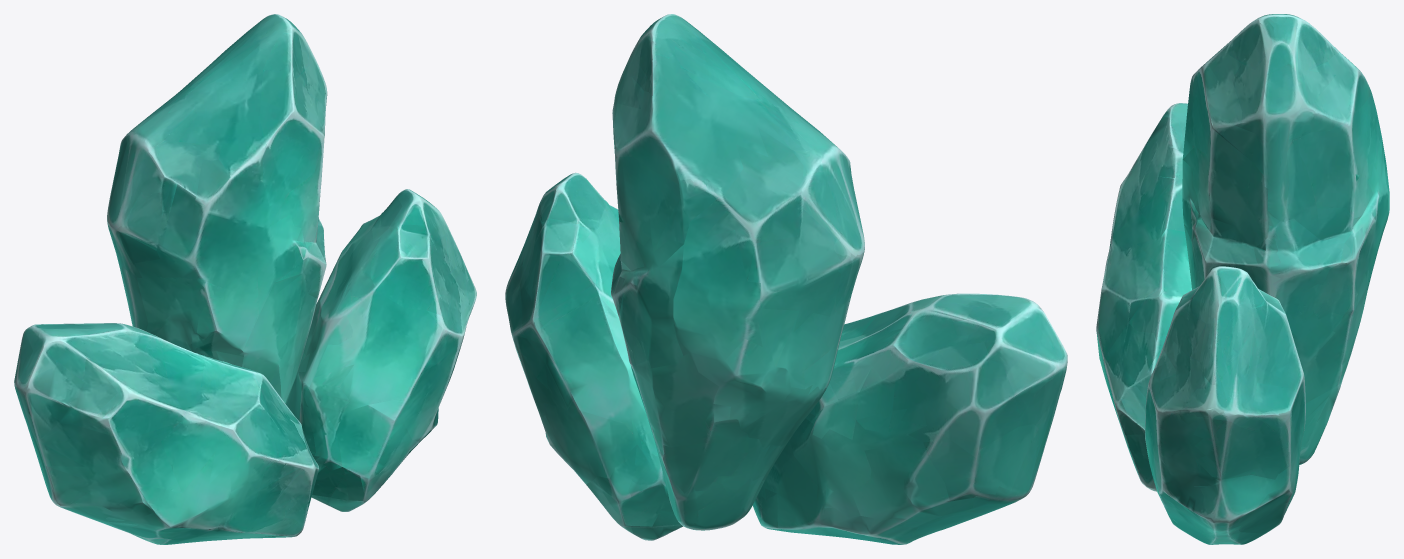
File: mat_glass.glb
The picture shows the model from 3 angles, left to right: view 1: azimuth 30°, elevation 25°; view 2: azimuth 150°, elevation 25°; view 3: azimuth 270°, elevation 25°; orthographic projection. The views are drawn at different scales.
Visible parts, largest first — view 1: output_unwrapped; view 2: output_unwrapped; view 3: output_unwrapped.
Boxes of the visible parts, left/top/right/bottom form: output_unwrapped: left=14, top=14, right=476, bottom=544; output_unwrapped: left=505, top=14, right=1067, bottom=544; output_unwrapped: left=1096, top=14, right=1389, bottom=544.
Size of the model in its own units: 1.9 by 1.85 by 0.958.
Materials: 1 (1 with a texture image).
